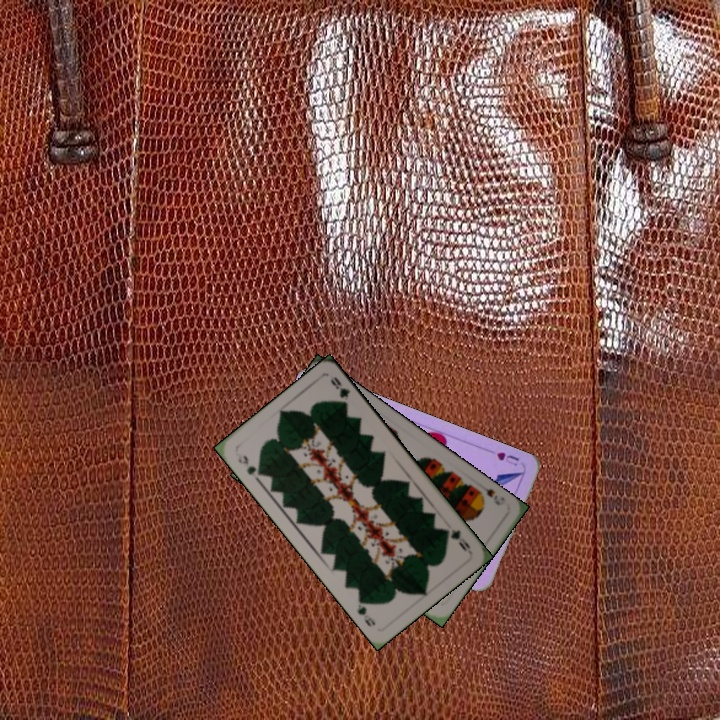G9: (232, 449, 266, 484), (440, 525, 473, 554)
HU: (492, 448, 522, 469)
S9: (472, 480, 508, 508)
